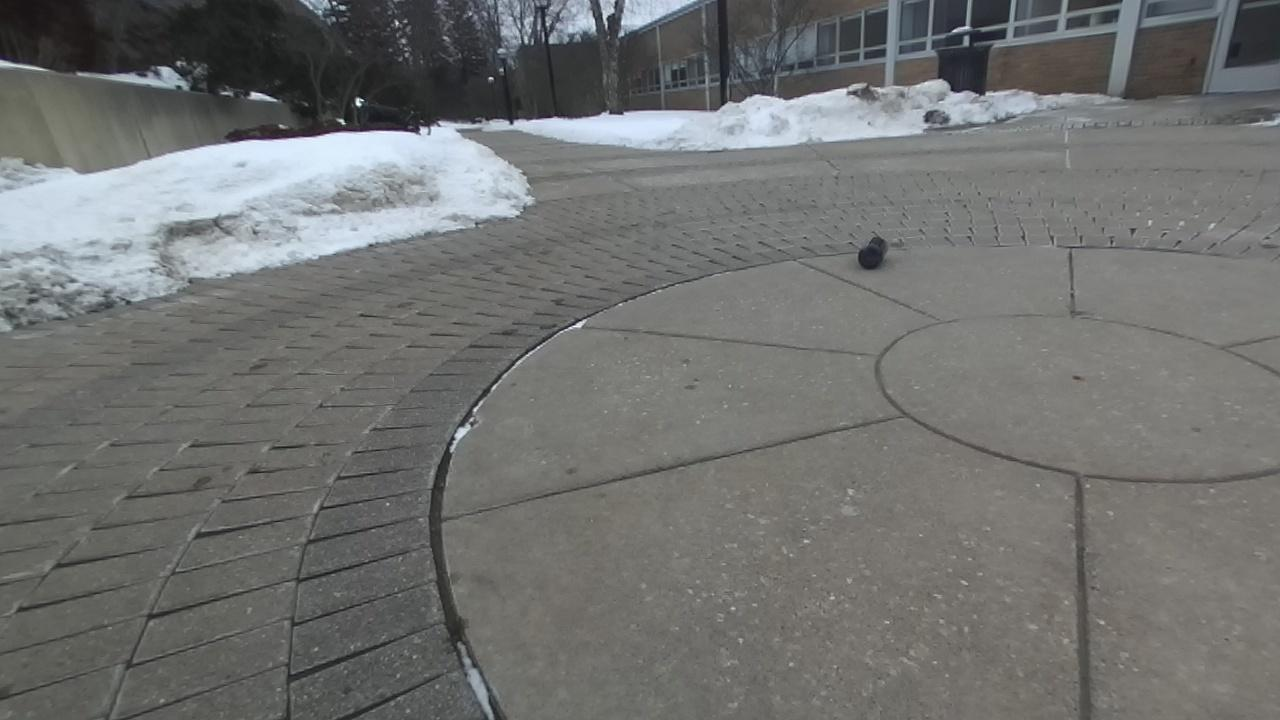bottle: (858, 235, 887, 269)
